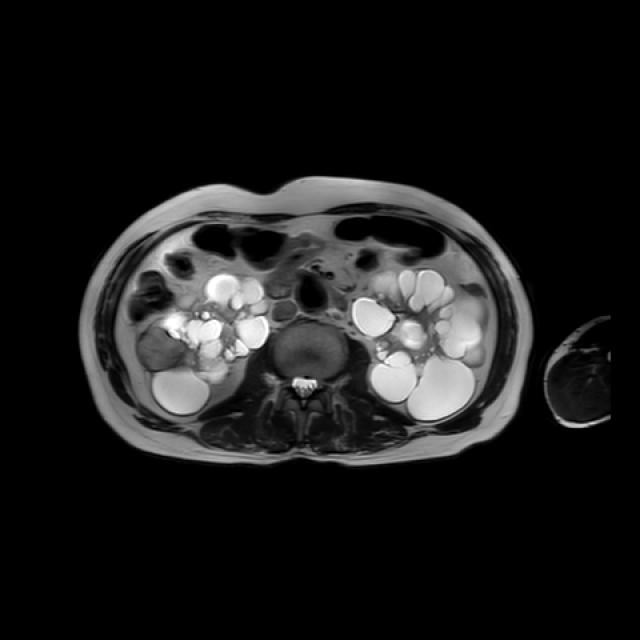sag: (142, 270, 270, 415)
sol: (353, 270, 490, 418)
